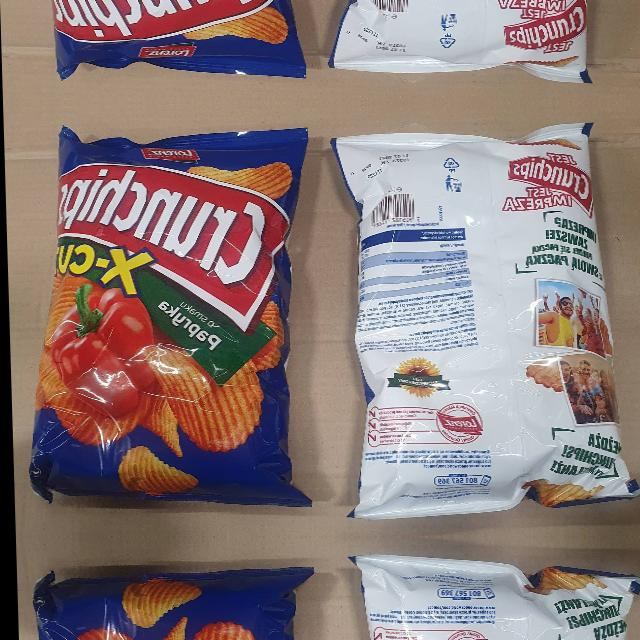crunchips: (57, 162, 291, 338), (52, 1, 275, 44)
